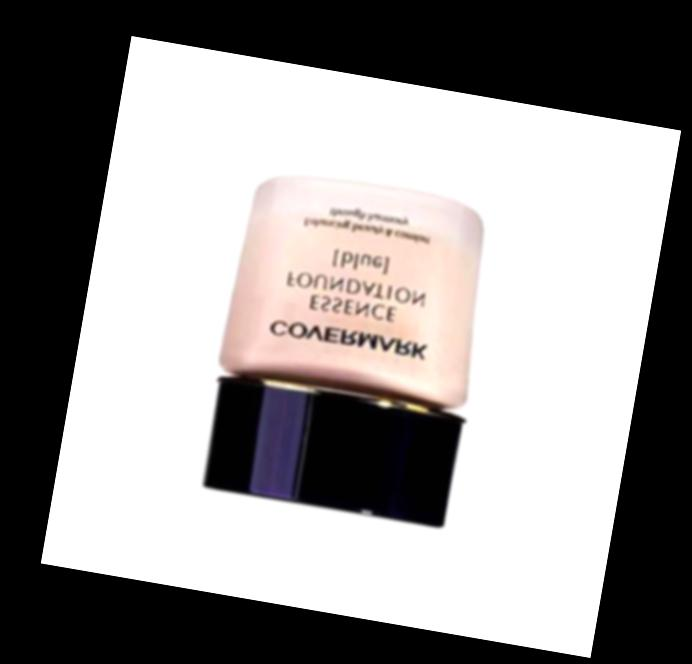cosmetic: (195, 166, 503, 529)
